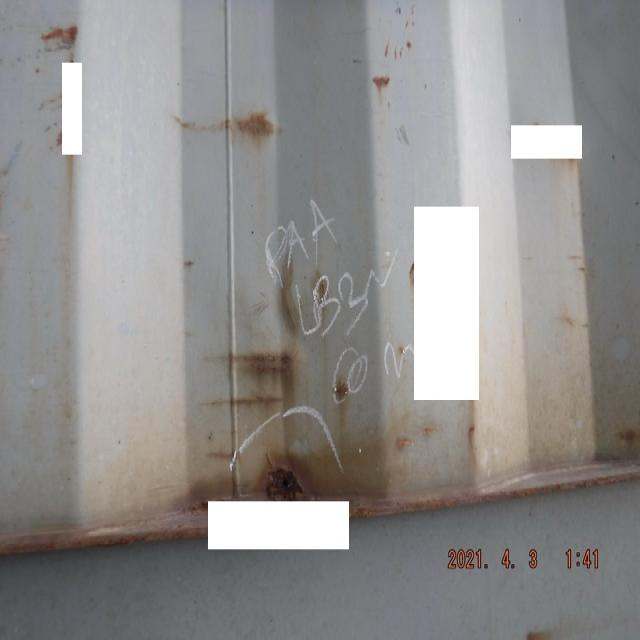hole: (269, 466, 302, 501)
